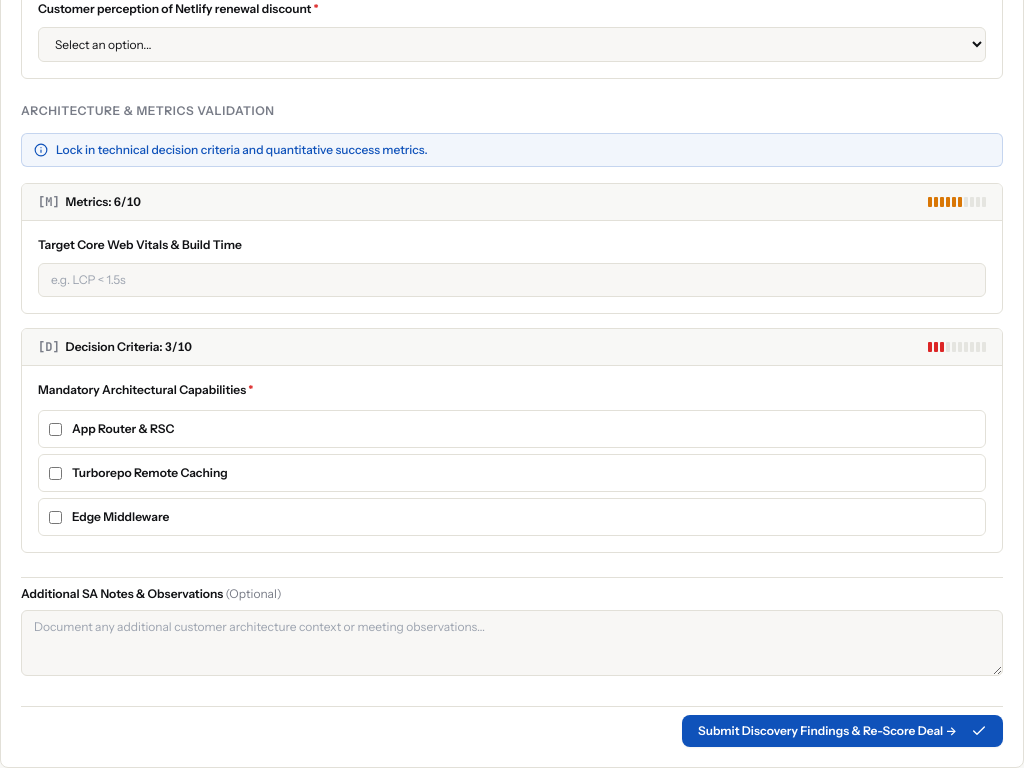
Test: DynamicDiscoveryForm Component Contract Seam (tests/dynamic-form-renderer.test.tsx) › 2. Field Constraints & Validation Enforcement › blocks submission and surfaces validation errors for all empty required fields
(page scrolled)
Click the button "Submit Discovery Findings & Re-Score Deal →" at (842,731), box [682, 715, 1003, 747]
(page scrolled)
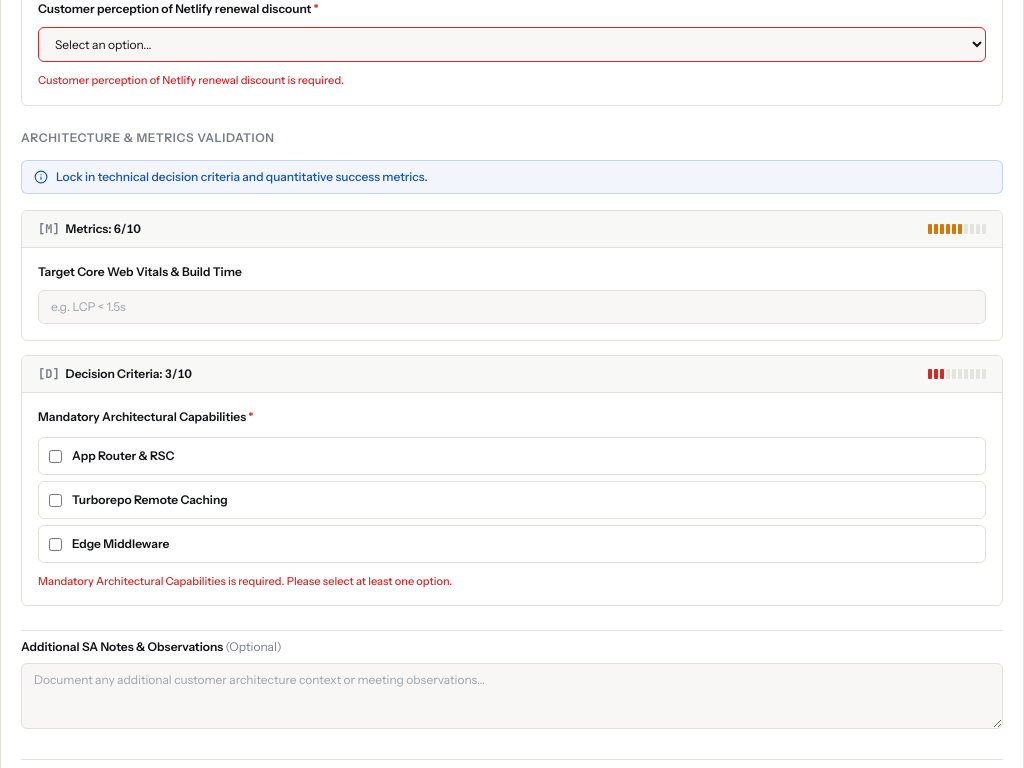
Expected: the text "Customer perception of Netlify renewal discount is required." is shown, [38, 73, 344, 87]
Expected: the text "Mandatory Architectural Capabilities is required. Please select at least one option." is shown, [38, 574, 452, 588]
